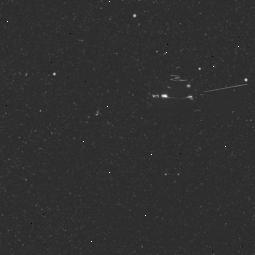earth_observation_sat_1: (137, 71, 254, 110)
